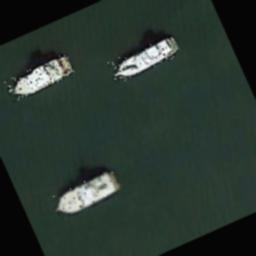boat: (48, 165, 124, 221), (106, 33, 182, 84), (4, 52, 76, 102)
